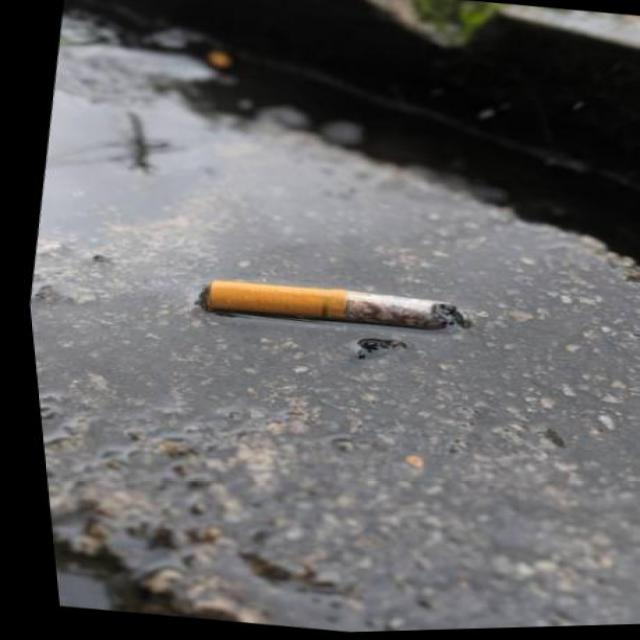cigarette: (190, 271, 471, 346)
